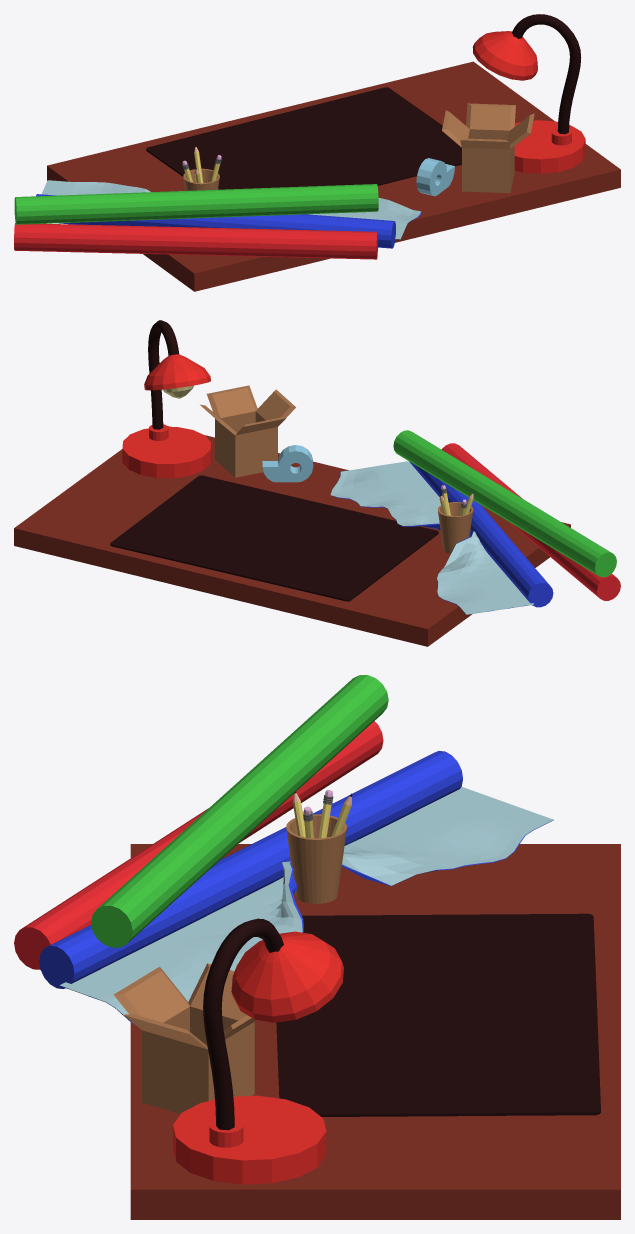
File: Table.fbx
3 views of the same model, one above another, from view 1: azimuth 30°, elevation 25°; view 2: azimuth 150°, elevation 25°; view 3: azimuth 270°, elevation 25° (orthographic). The views are drawn at different scales.
Visible parts, largest first — view 1: Cube.001, Cube.002, Cylinder.011, Cylinder.009, Cube.003, Cylinder.012, Cylinder.010, Grid, BezierCurve, Cube.004, Cylinder; view 2: Cube.001, Cube.002, Grid, Cylinder.011, Cylinder.012, Cube.003, Cylinder.010, Cylinder.009, Cube.004, BezierCurve, Cylinder; view 3: Cube.001, Cube.002, Grid, Cylinder.012, Cylinder.011, Cylinder.010, Cube.003, Cylinder.009, BezierCurve, Cylinder.
Boxes of the visible parts, x1,y1,x2,y2 form: Cube.001: (47,61,620,291); Cube.002: (146,87,461,189); Cylinder.011: (14,184,378,224); Cylinder.009: (14,223,377,259); Cube.003: (442,103,534,193); Cylinder.012: (472,31,585,173); Cylinder.010: (36,194,395,248); Grid: (42,180,421,239); BezierCurve: (512,14,581,134); Cube.004: (416,158,454,196); Cylinder: (183,168,219,190); Cube.001: (14,426,570,646); Cube.002: (110,475,438,601); Grid: (330,461,534,614); Cylinder.011: (393,430,616,577); Cylinder.012: (122,354,211,478); Cube.003: (200,385,295,477); Cylinder.010: (409,461,553,607); Cylinder.009: (441,443,620,600); Cube.004: (262,445,313,482); BezierCurve: (148,320,179,429); Cylinder: (437,502,473,553); Cube.001: (130,844,620,1219); Cube.002: (276,913,600,1116); Grid: (59,786,553,1024); Cylinder.012: (173,931,343,1184); Cylinder.011: (91,675,388,947); Cylinder.010: (39,751,462,988); Cube.003: (113,963,256,1113); Cylinder.009: (14,721,383,969); BezierCurve: (203,918,283,1130); Cylinder: (286,814,346,903).
Bounding box in the file's own units: 6227 × 1736 × 3632.
